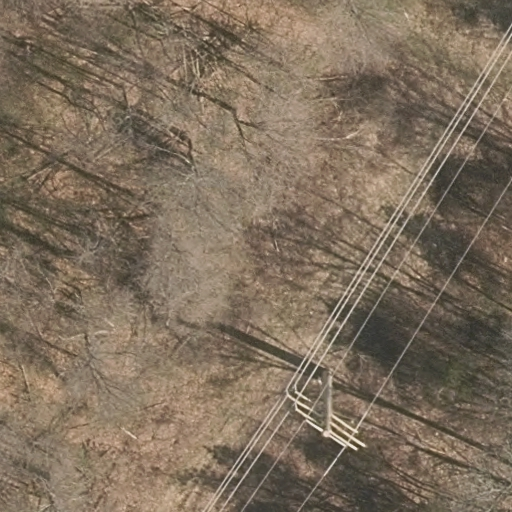TT: (281, 363, 364, 450)
